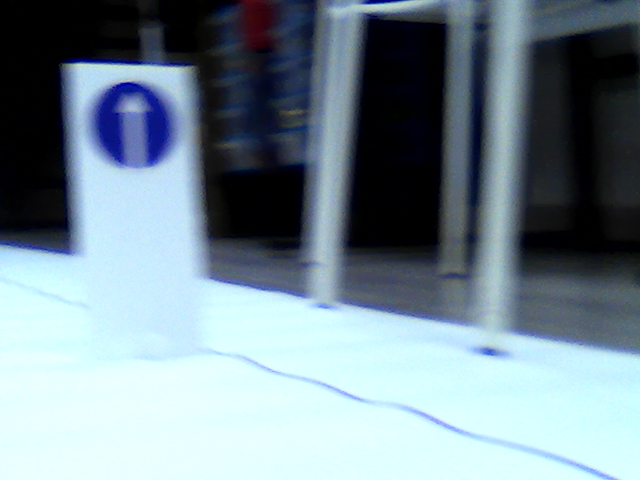forw: (92, 81, 176, 170)
